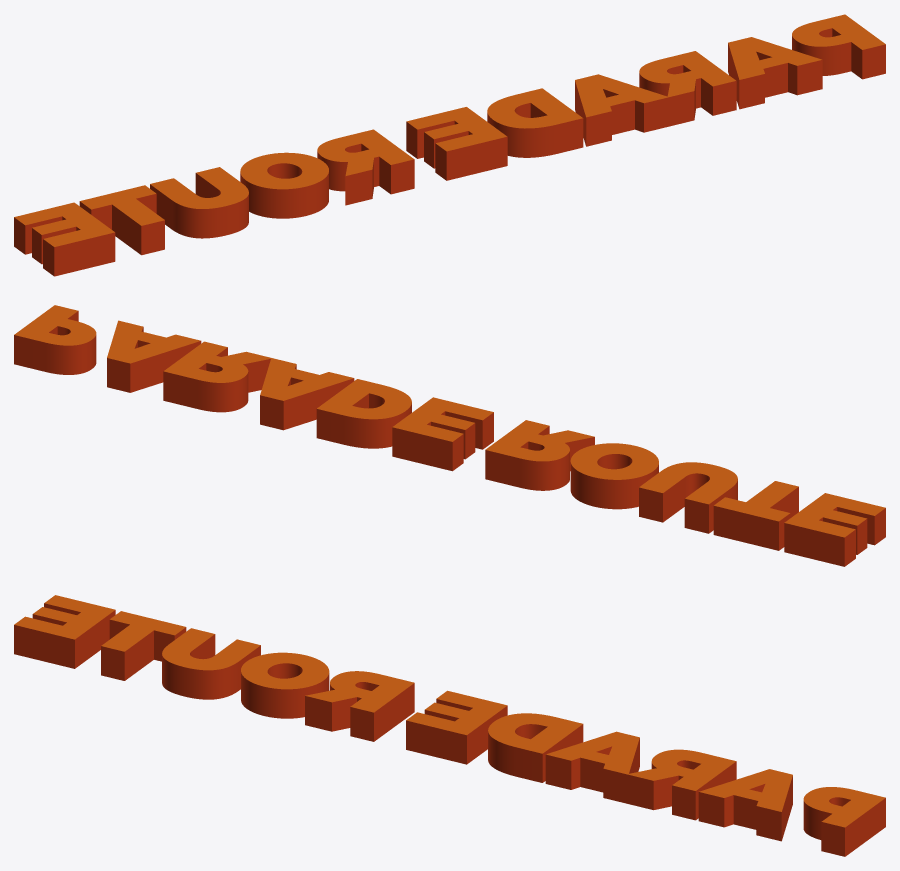
The model's file is title-text.fbx.
3 renders of one model, top to bottom at view 1: azimuth 30°, elevation 25°; view 2: azimuth 150°, elevation 25°; view 3: azimuth 330°, elevation 25°, orthographic.
Visible parts, largest first — view 1: Text; view 2: Text; view 3: Text.
Part boxes in pixels (x1,y1,x2,y2): Text: (14, 14, 885, 276); Text: (14, 305, 885, 566); Text: (14, 595, 885, 856).
Size of the model in its own units: 586 by 19.8 by 52.07.
